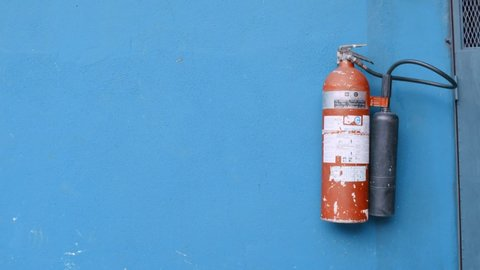fire_extinguisher: (320, 43, 458, 224), (320, 43, 374, 224)
